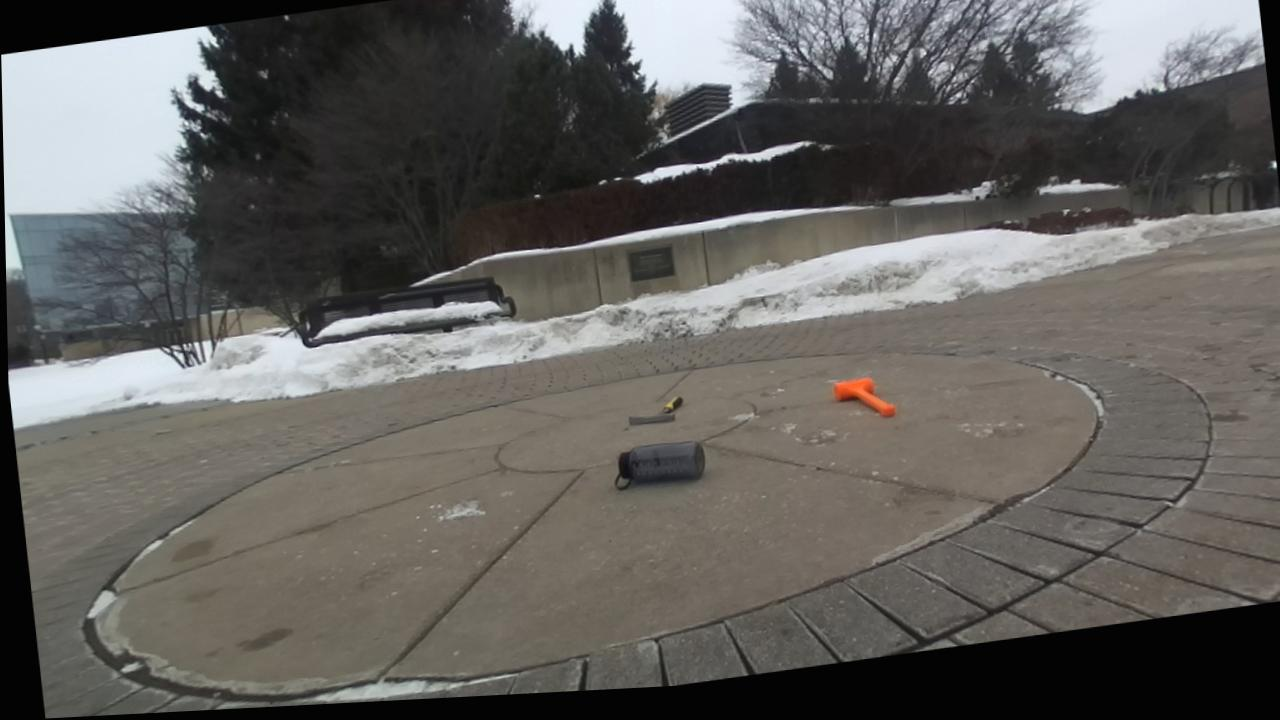bottle: (617, 441, 704, 482)
mallet: (834, 378, 894, 417)
pick: (629, 396, 682, 424)
